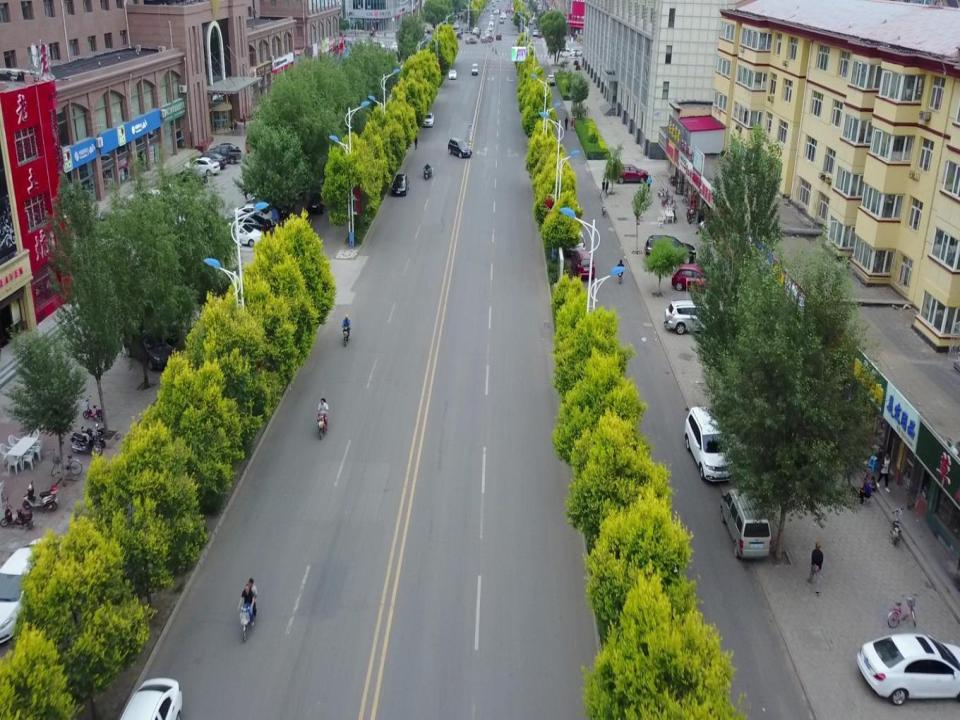car: (856, 633, 960, 706), (0, 536, 69, 646), (684, 407, 734, 481), (122, 323, 175, 371), (664, 298, 720, 334), (643, 236, 697, 264), (671, 263, 719, 291), (216, 221, 263, 248), (222, 213, 271, 233), (234, 203, 274, 224), (562, 220, 586, 255), (184, 157, 220, 176), (570, 250, 595, 277), (173, 168, 208, 187), (616, 163, 648, 183), (189, 154, 226, 168), (448, 138, 472, 158), (208, 142, 241, 156), (308, 192, 327, 214), (392, 173, 409, 196), (423, 112, 435, 126), (558, 48, 576, 57), (570, 48, 584, 57), (448, 70, 458, 79), (465, 38, 477, 44), (480, 36, 490, 43), (452, 31, 462, 38), (453, 22, 460, 29), (473, 26, 479, 34), (484, 32, 492, 38), (496, 32, 501, 40), (533, 29, 538, 37), (538, 32, 542, 38)
truck: (202, 145, 242, 163)
van: (720, 488, 773, 558), (470, 63, 478, 74)
